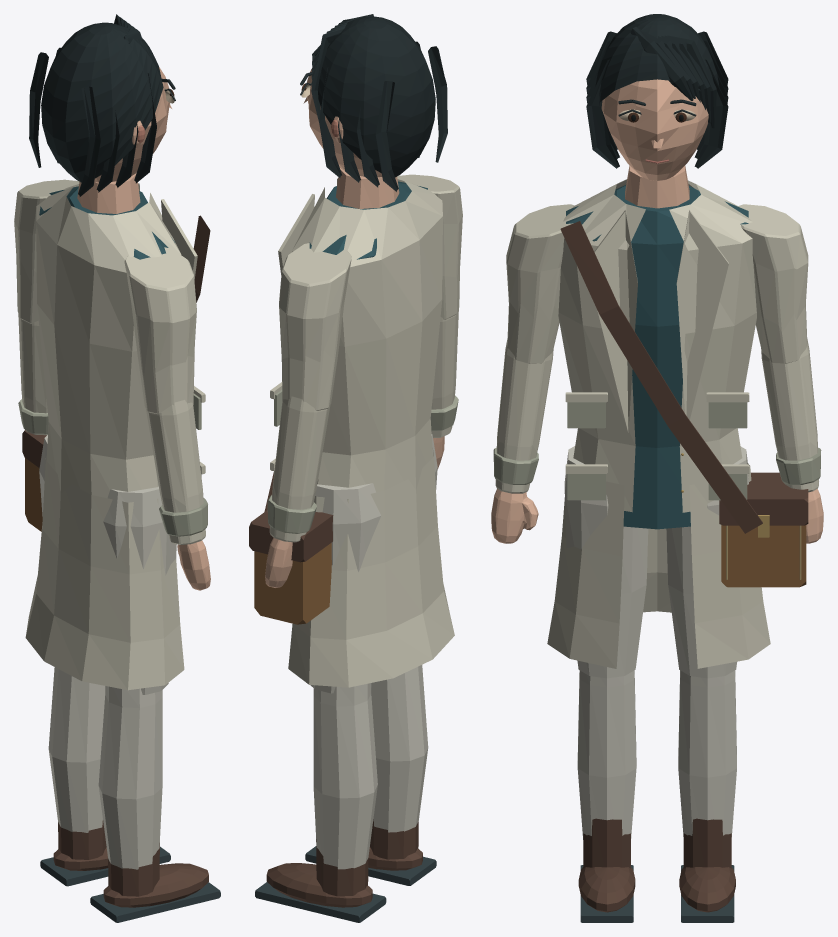
The model's file is night_su.glb.
3 renders of one model, left to right at view 1: azimuth 30°, elevation 25°; view 2: azimuth 150°, elevation 25°; view 3: azimuth 270°, elevation 25°, orthographic.
Parts seen in each view (by area): view 1: Chest, CoatHem, Head, Shin_L, Arm_L, Shin_R, Fore_L, Foot_L, Leg_L, Arm_R, Foot_R, Fore_R (+2 smaller); view 2: Chest, CoatHem, Head, Shin_R, Arm_R, Shin_L, Fore_R, Satchel, Foot_R, Leg_R, Foot_L, Arm_L (+2 smaller); view 3: Chest, CoatHem, Head, Shin_L, Shin_R, Satchel, Arm_R, Arm_L, Fore_L, Fore_R, Leg_L, Foot_R (+4 smaller).
Part boxes in pixels (box(x1,y1,x2,y2)): Chest: box(36, 173, 210, 498); CoatHem: box(25, 458, 184, 690); Head: box(29, 14, 175, 196); Shin_L: box(98, 686, 162, 869); Arm_L: box(124, 247, 196, 414); Shin_R: box(48, 667, 105, 832); Fore_L: box(146, 400, 207, 544); Foot_L: box(90, 843, 220, 922); Leg_L: box(103, 486, 176, 694); Arm_R: box(14, 179, 79, 323); Foot_R: box(40, 820, 170, 886); Fore_R: box(18, 314, 48, 435); Chest: box(264, 168, 442, 511); CoatHem: box(288, 448, 454, 687); Head: box(300, 14, 447, 191); Shin_R: box(313, 683, 377, 869); Arm_R: box(279, 243, 351, 410); Shin_L: box(371, 665, 428, 832); Fore_R: box(267, 396, 330, 542); Satchel: box(249, 510, 333, 624); Foot_R: box(255, 839, 386, 922); Leg_R: box(310, 483, 381, 693); Foot_L: box(305, 819, 436, 885); Arm_L: box(397, 174, 462, 319); Chest: box(558, 165, 762, 533); CoatHem: box(547, 463, 770, 668); Head: box(586, 14, 728, 180); Shin_L: box(577, 670, 636, 839); Shin_R: box(678, 670, 736, 836); Satchel: box(719, 472, 808, 587); Arm_R: box(738, 204, 808, 363); Arm_L: box(506, 204, 574, 363); Fore_L: box(493, 338, 553, 493); Fore_R: box(761, 339, 821, 492); Leg_L: box(564, 446, 648, 678); Foot_R: box(679, 818, 735, 922).
Bounding box in the file's own units: 0.1899 × 1.13 × 0.3927.
